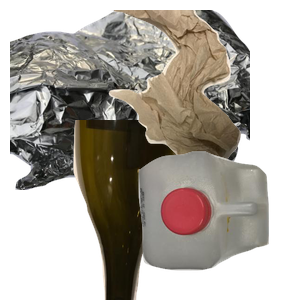glass: (71, 120, 254, 300)
metal: (10, 10, 250, 190)
plastic: (136, 149, 300, 300)
trash: (103, 10, 300, 173)
